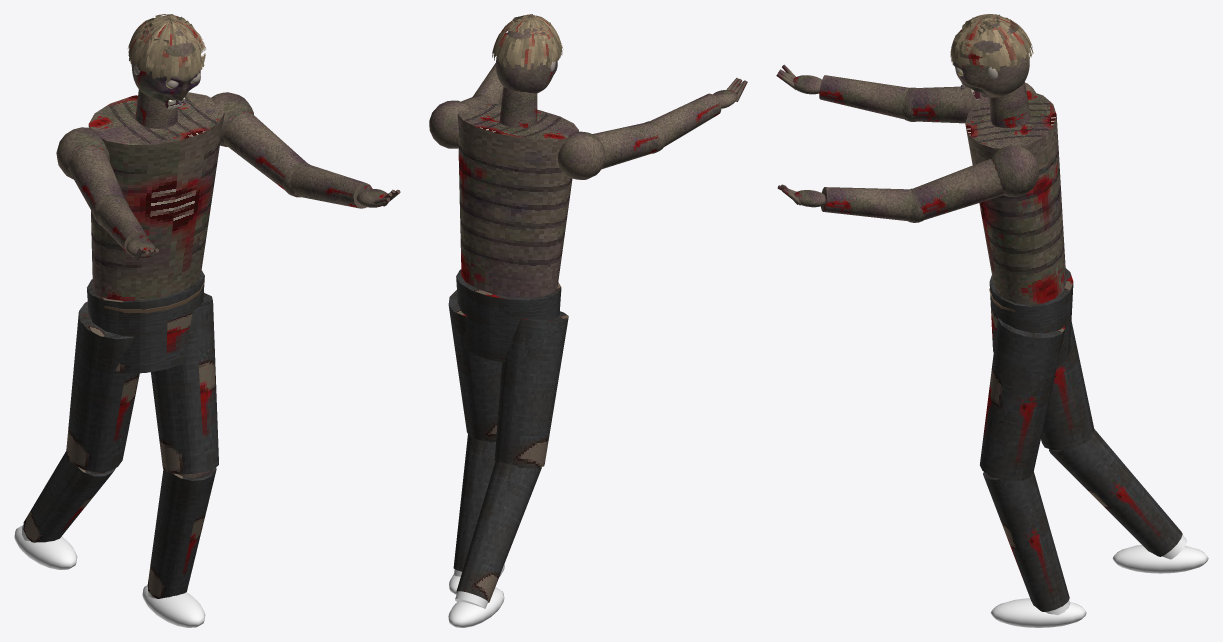
The model's file is Zombie_108.glb.
The picture shows the model from 3 angles, left to right: view 1: azimuth 30°, elevation 25°; view 2: azimuth 150°, elevation 25°; view 3: azimuth 270°, elevation 25°; orthographic projection. The views are drawn at different scales.
Parts seen in each view (by area): view 1: Zombie_108, object 43, object 10, object 16, object 3; view 2: Zombie_108, object 43, object 3, object 16, object 10; view 3: Zombie_108, object 10, object 3, object 43, object 16.
Boxes of the visible parts, x1=… form: Zombie_108: x1=14, y1=89, x2=306, y2=627; object 43: x1=128, y1=14, x2=205, y2=80; object 10: x1=290, y1=163, x2=372, y2=208; object 16: x1=131, y1=26, x2=200, y2=103; object 3: x1=97, y1=197, x2=149, y2=253; Zombie_108: x1=429, y1=87, x2=659, y2=627; object 43: x1=492, y1=14, x2=562, y2=67; object 3: x1=650, y1=93, x2=721, y2=146; object 16: x1=496, y1=27, x2=557, y2=93; object 10: x1=473, y1=63, x2=503, y2=104; Zombie_108: x1=911, y1=82, x2=1208, y2=627; object 10: x1=821, y1=187, x2=913, y2=221; object 3: x1=819, y1=75, x2=909, y2=119; object 43: x1=950, y1=14, x2=1033, y2=68; object 16: x1=953, y1=23, x2=1029, y2=97.
Size of the model in its own units: 0.9021 by 2.08 by 1.37.
Materials: 16 (6 with a texture image).
